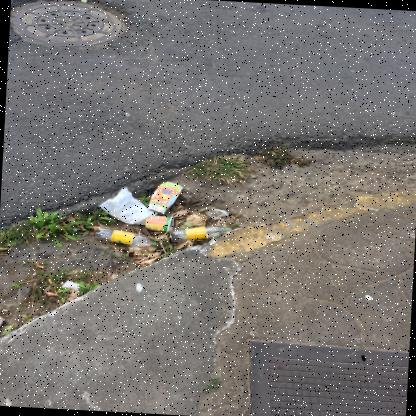Cigarette: (35, 265, 44, 268), (47, 279, 52, 284), (60, 279, 63, 284)
Clear plastic bottle: (94, 227, 159, 247), (169, 225, 231, 241)
Drink carton: (147, 181, 183, 214)
Paper cup: (145, 215, 173, 231)
Plastic film: (99, 187, 157, 225), (205, 208, 229, 220)
Unlabeled litter: (60, 280, 78, 289)
